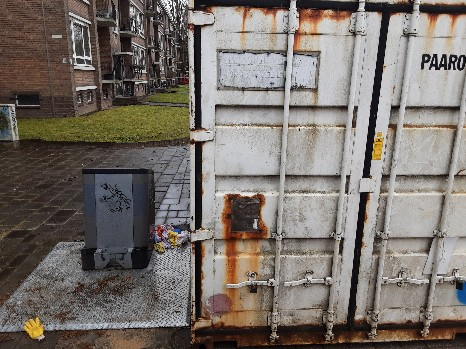Container: (78, 158, 154, 262)
Plastic: (14, 313, 45, 339)
Rest: (158, 222, 189, 254)
